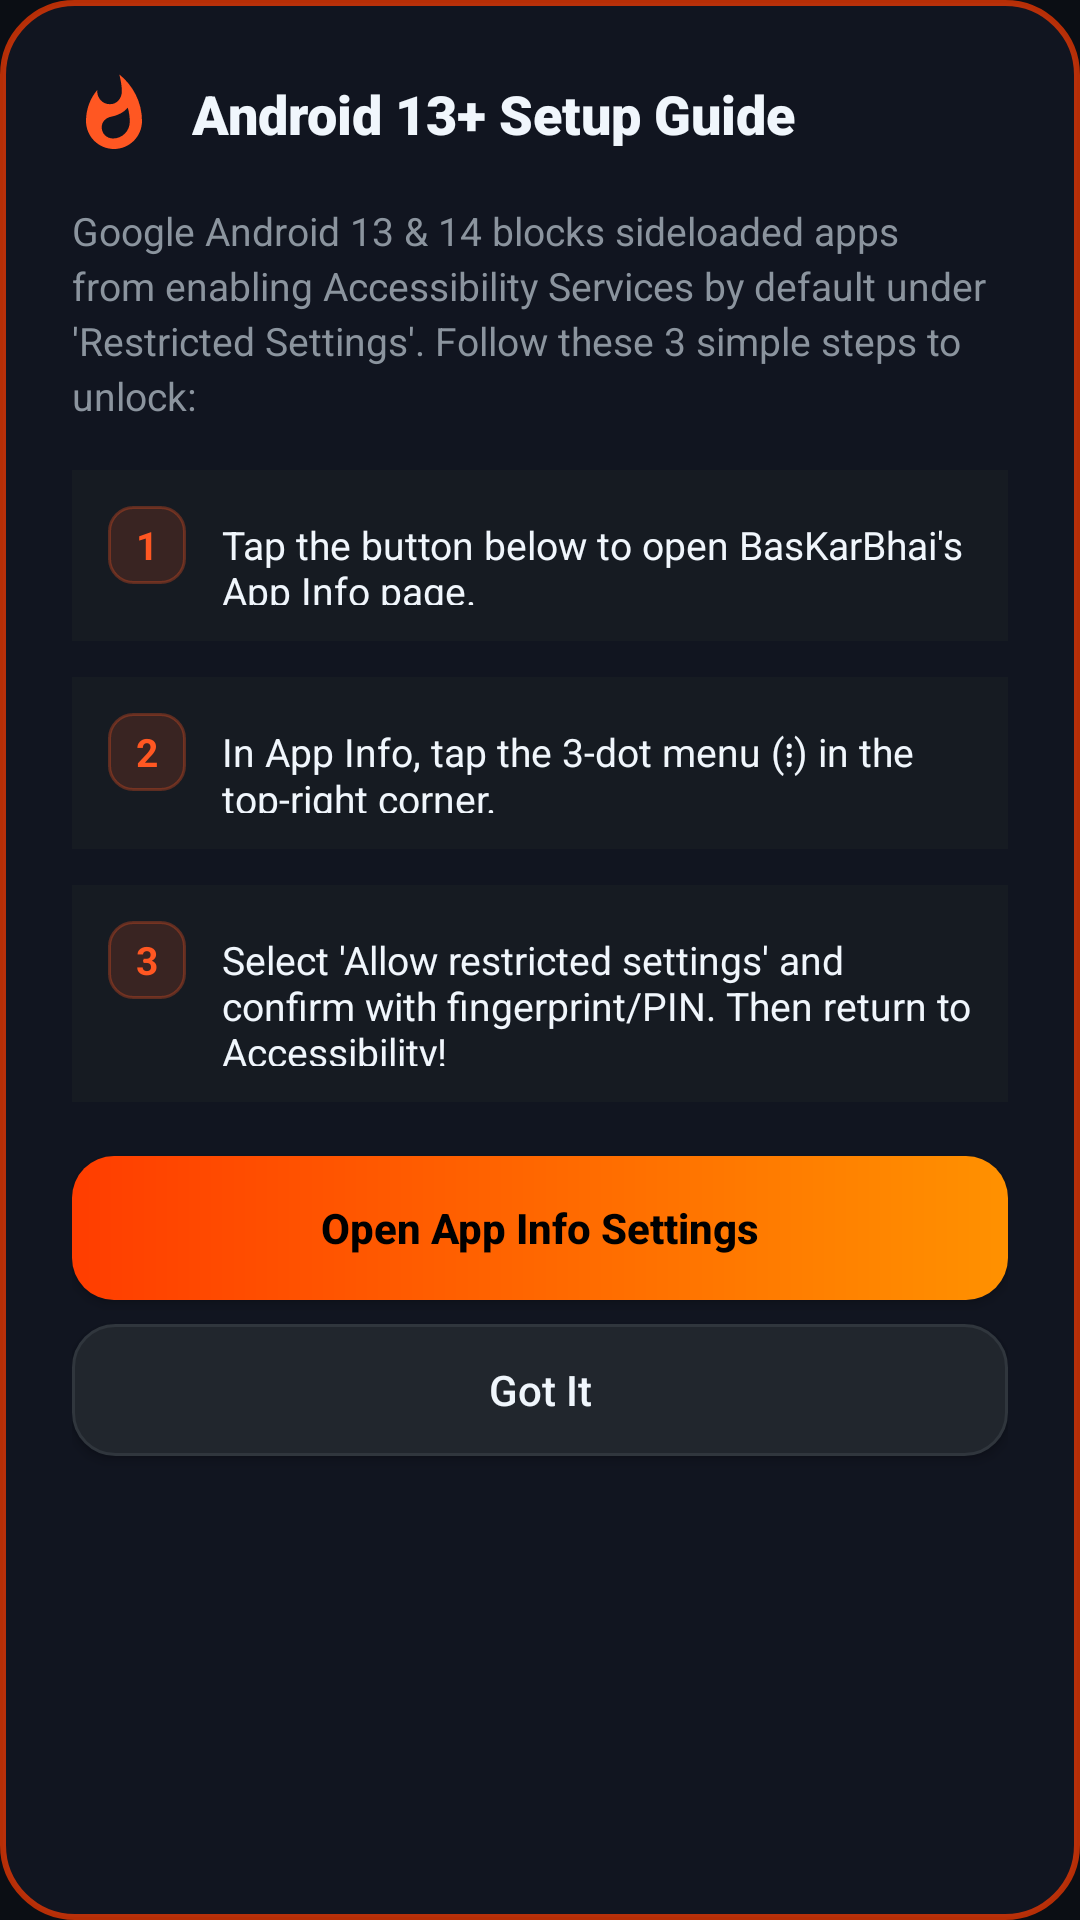

Point at icon controls on the screen. Image size 1080x1920, points as (x=x, y=y).
flame: (x=114, y=111)
